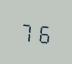seven: (19, 18, 34, 43)
six: (35, 19, 50, 45)
